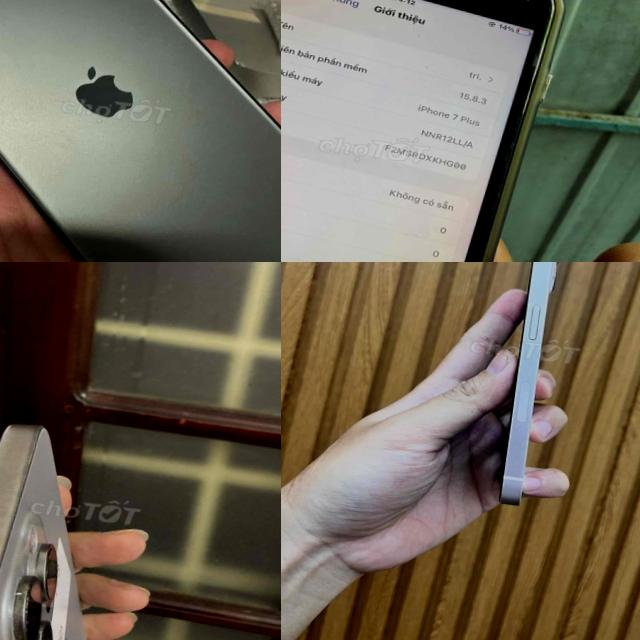gen_11: (0, 0, 281, 262)
gen_12_13: (476, 262, 576, 517)
gen_15: (0, 398, 133, 640)
gen_7_8: (281, 0, 574, 262)
scratch: (507, 0, 539, 7)
